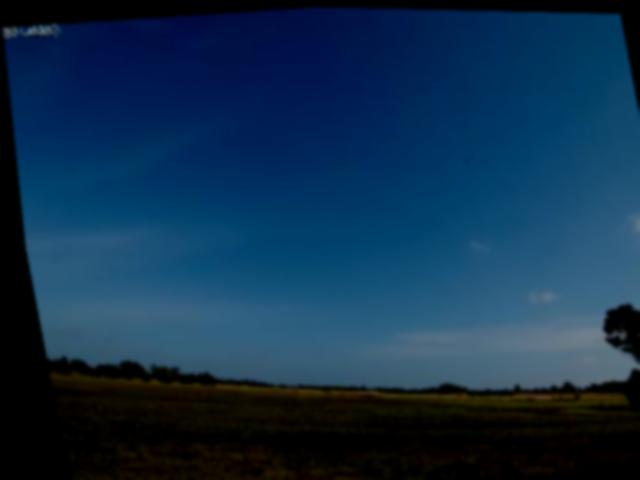uav: (452, 146, 476, 168)
